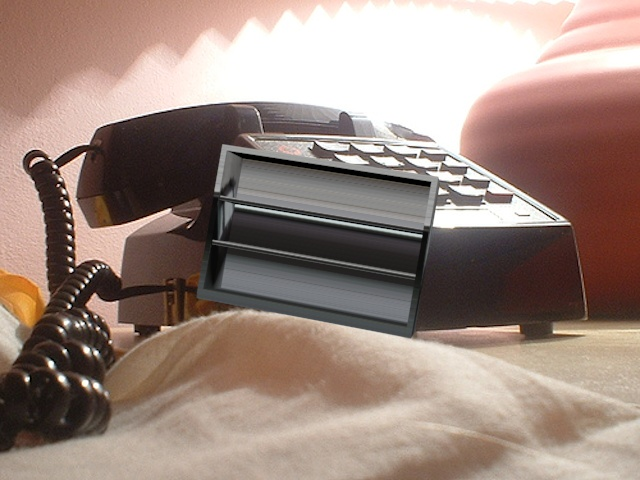bookcase: (193, 145, 448, 352)
